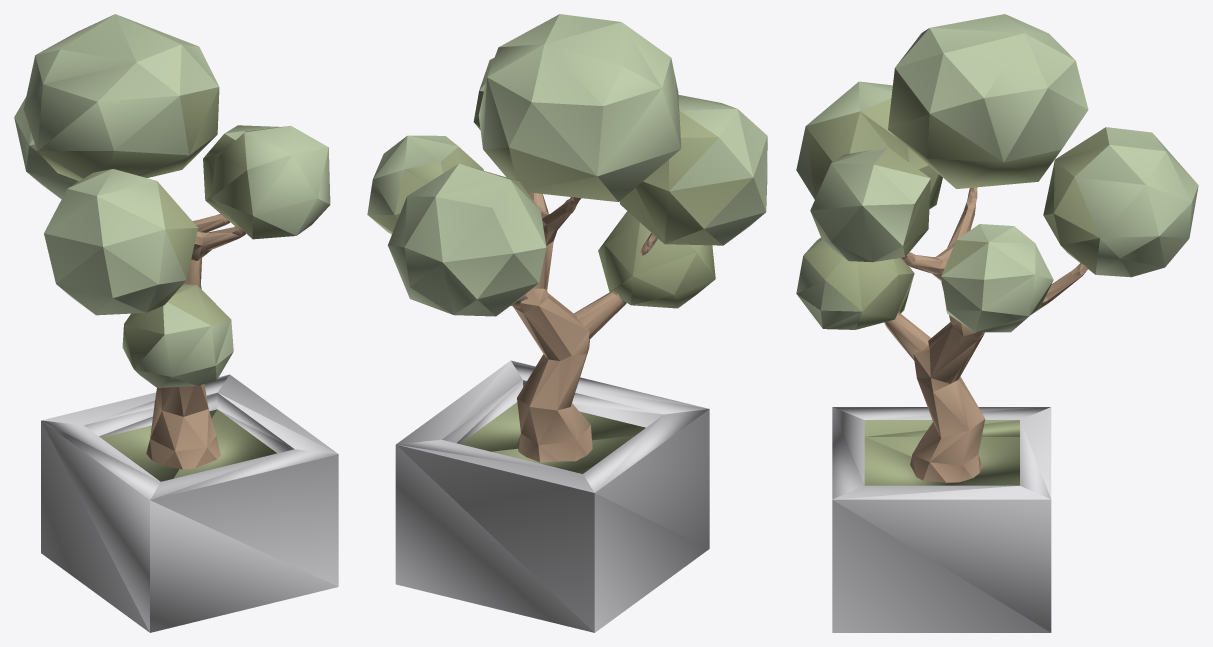
The model's file is olive.glb.
3 views of the same model, side by side, from view 1: azimuth 30°, elevation 25°; view 2: azimuth 150°, elevation 25°; view 3: azimuth 270°, elevation 25° (orthographic). The views are drawn at different scales.
Parts seen in each view (by area): view 1: tripo_node_f450765f-a969-43a6-82f4-5af9af0a42c2; view 2: tripo_node_f450765f-a969-43a6-82f4-5af9af0a42c2; view 3: tripo_node_f450765f-a969-43a6-82f4-5af9af0a42c2.
Part boxes in pixels (bbox=[...]): tripo_node_f450765f-a969-43a6-82f4-5af9af0a42c2: bbox=[14, 14, 338, 632]; tripo_node_f450765f-a969-43a6-82f4-5af9af0a42c2: bbox=[367, 14, 767, 632]; tripo_node_f450765f-a969-43a6-82f4-5af9af0a42c2: bbox=[796, 14, 1198, 632].
Bounding box in the file's own units: 0.6113 × 0.998 × 0.6777.
